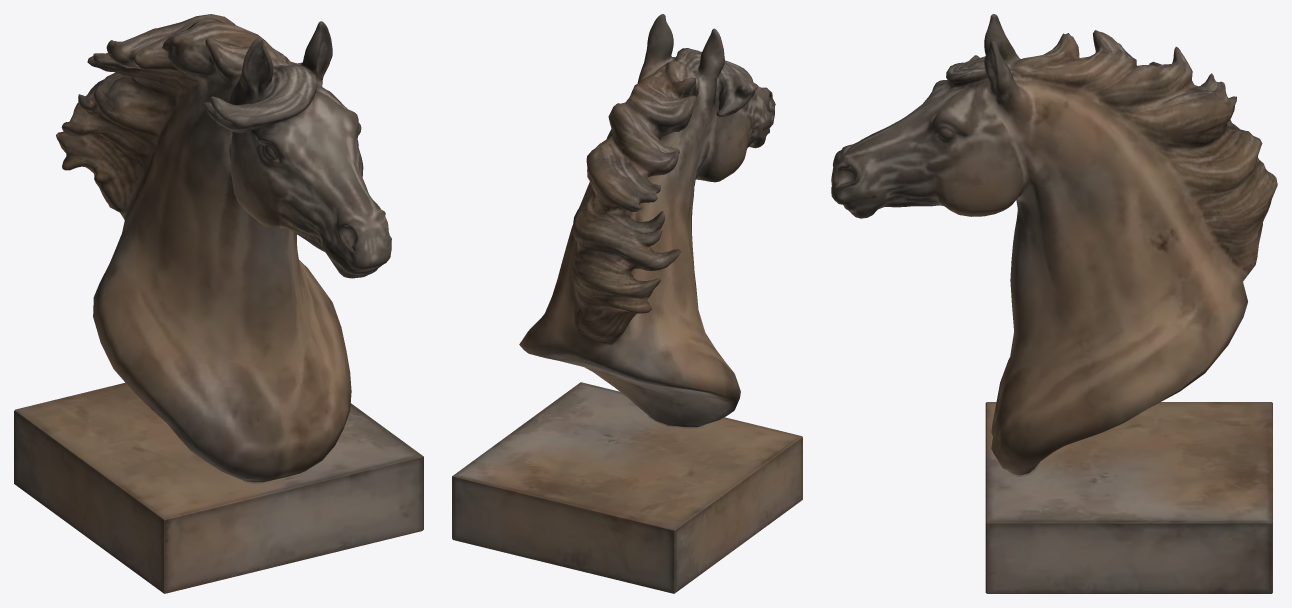
Rendered from horse_head.glb.
3 renders of one model, left to right at view 1: azimuth 30°, elevation 25°; view 2: azimuth 150°, elevation 25°; view 3: azimuth 270°, elevation 25°, orthographic. The views are drawn at different scales.
Parts seen in each view (by area): view 1: horse_head; view 2: horse_head; view 3: horse_head.
Boxes of the visible parts, x1,y1,x2,y2 form: horse_head: (14, 14, 423, 593); horse_head: (452, 14, 802, 593); horse_head: (831, 14, 1277, 593).
Size of the model in its own units: 0.2149 by 0.4187 by 0.3341.
Materials: 1 (1 with a texture image).
